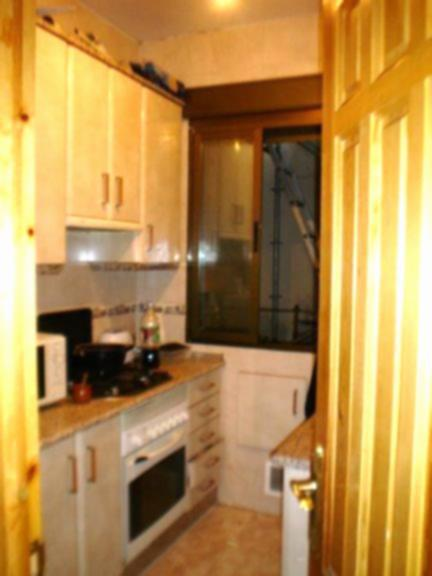Electrodomestico: (128, 382, 188, 575)
Puerta: (318, 5, 430, 572)
